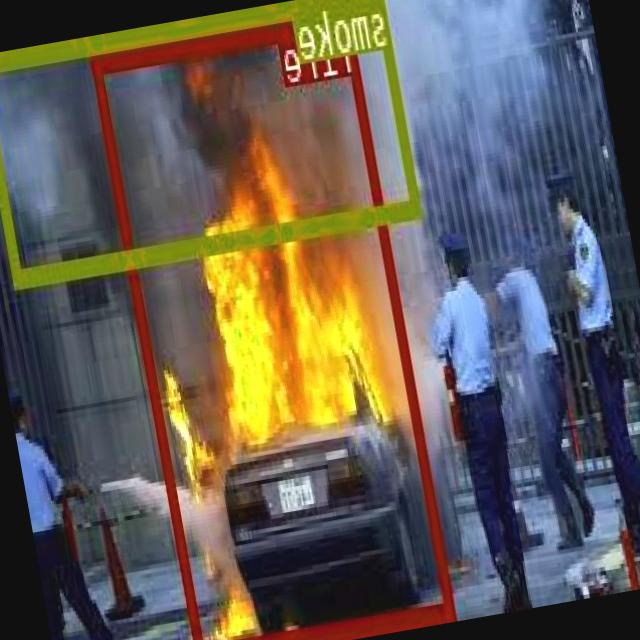fire: (91, 8, 457, 640)
smoke: (0, 0, 423, 281)
